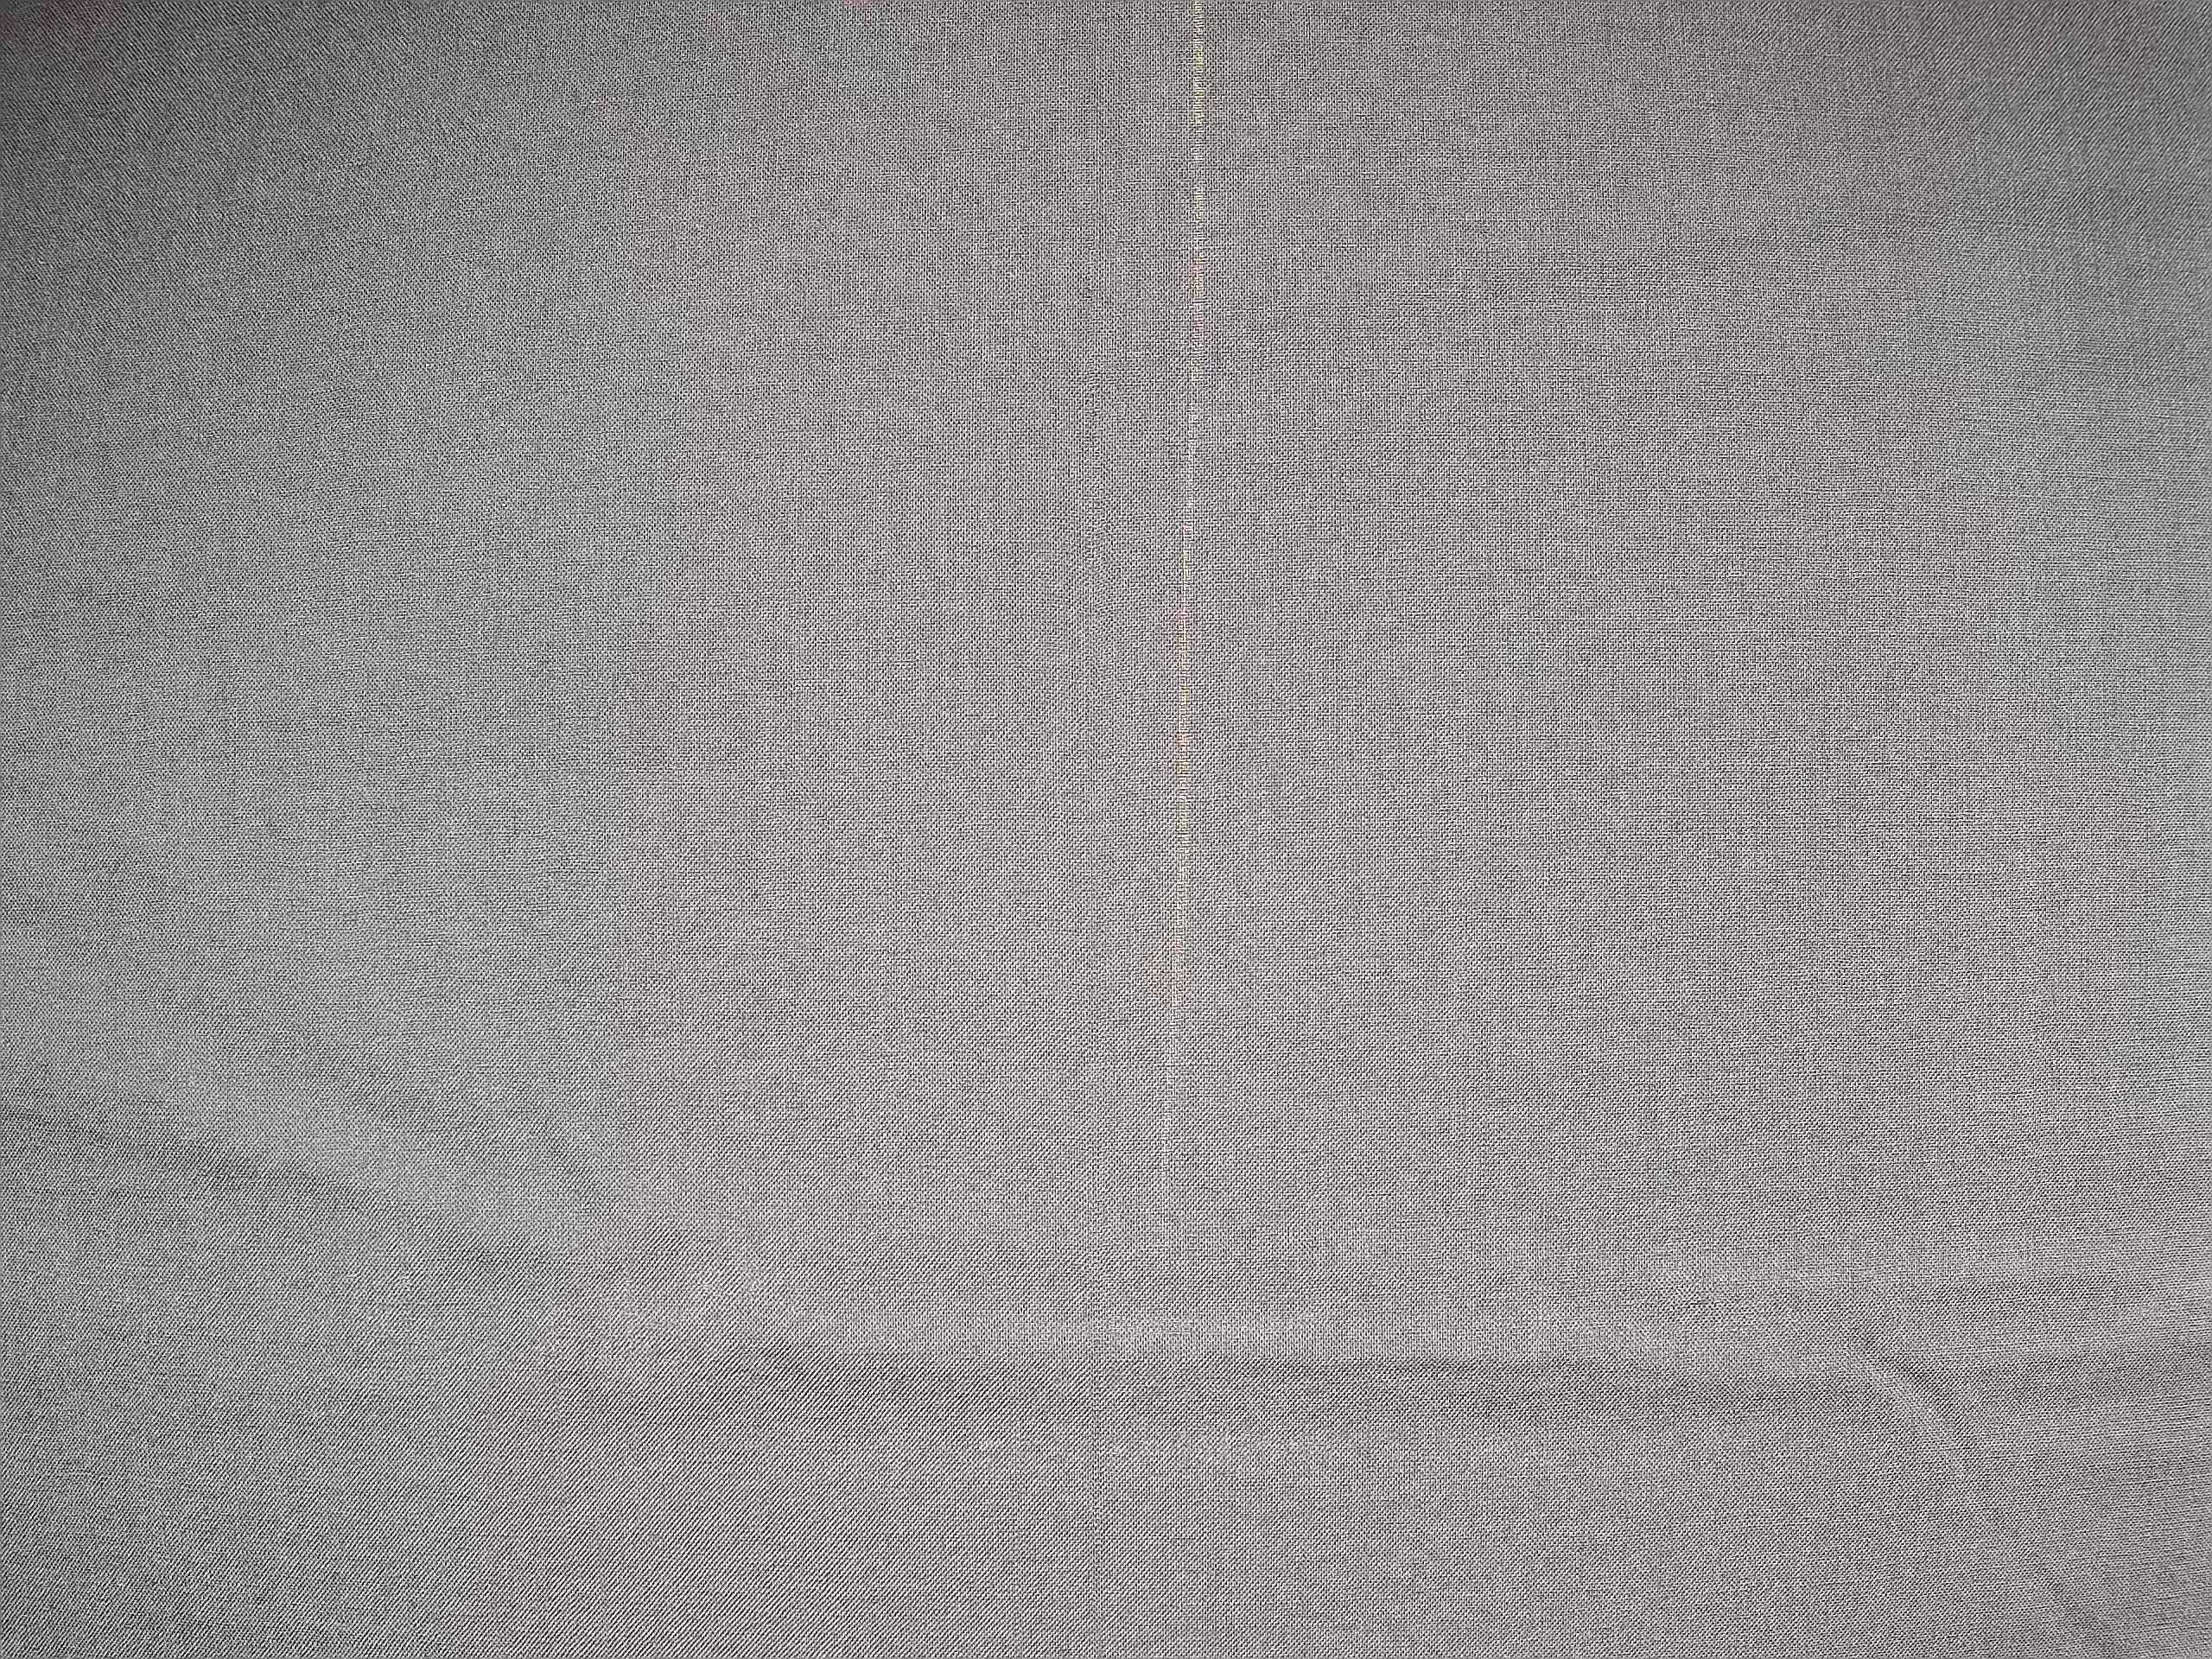hanging-warp: (1160, 0, 1230, 1328)
